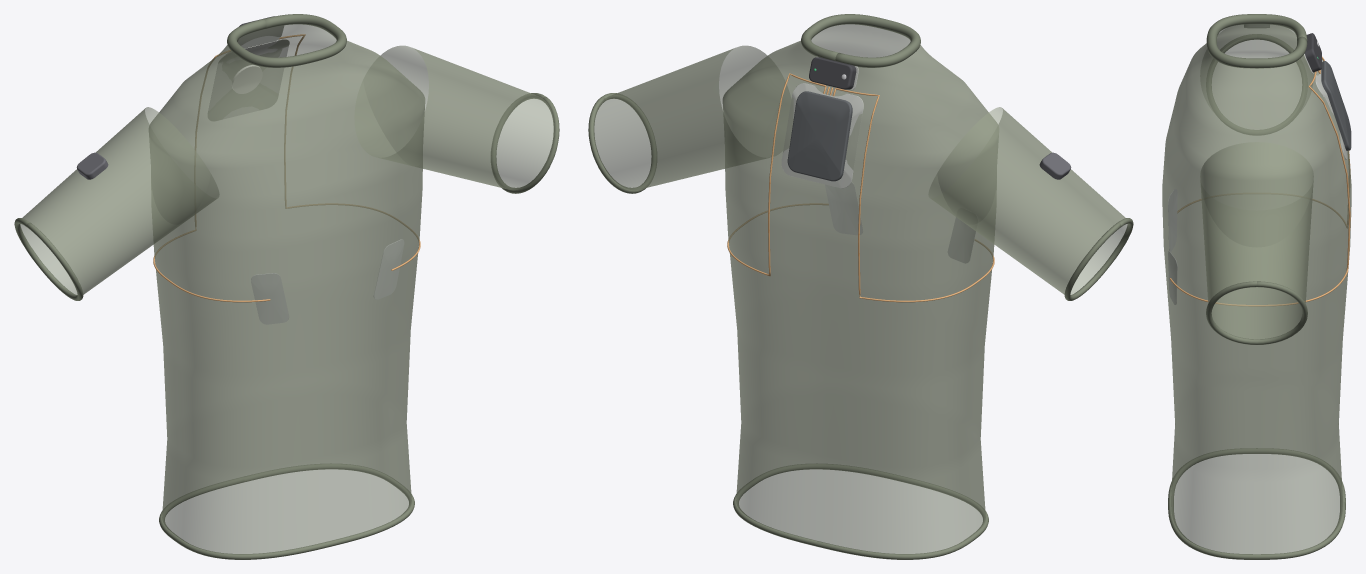
Rendered from RSAF_HeatStrain_Shirt_Assembly.glb.
3 renders of one model, left to right at view 1: azimuth 30°, elevation 25°; view 2: azimuth 150°, elevation 25°; view 3: azimuth 270°, elevation 25°, orthographic.
Visible parts, largest first — view 1: Shirt_body, Sleeve_L, Sleeve_R, Dock_M1_Back_patch, Hem_band, Collar_band, Cuff_R, M3_ECG_electrode_L, Cuff_L, M3_ECG_electrode_R, Conductive_thread_traces_TPU_taped, M1_Back_patch_sensing_boss; view 2: Shirt_body, Sleeve_L, Sleeve_R, M1_Back_patch_housing, Hem_band, Collar_band, Dock_M1_Back_patch, Conductive_thread_traces_TPU_taped, Cuff_R, M3_ECG_electrode_R, Cuff_L, M2_Hub_pod (+1 smaller); view 3: Shirt_body, Sleeve_R, Hem_band, Collar_band, Cuff_R, Sleeve_L, Cuff_L, M1_Back_patch_housing, Conductive_thread_traces_TPU_taped, M3_ECG_electrode_L, M2_Hub_pod, Dock_M1_Back_patch (+1 smaller).
Part boxes in pixels (x1,y1,x2,y2): Shirt_body: [149, 24, 425, 554]; Sleeve_L: [20, 107, 219, 294]; Sleeve_R: [354, 45, 554, 190]; Dock_M1_Back_patch: [208, 39, 289, 120]; Hem_band: [159, 464, 414, 559]; Collar_band: [227, 14, 346, 67]; Cuff_R: [491, 93, 559, 193]; M3_ECG_electrode_L: [251, 273, 289, 324]; Cuff_L: [14, 218, 83, 300]; M3_ECG_electrode_R: [373, 239, 404, 299]; Conductive_thread_traces_TPU_taped: [153, 34, 420, 302]; M1_Back_patch_sensing_boss: [231, 65, 262, 93]; Shirt_body: [722, 24, 998, 554]; Sleeve_L: [928, 107, 1127, 294]; Sleeve_R: [593, 45, 790, 190]; M1_Back_patch_housing: [787, 91, 852, 181]; Hem_band: [733, 464, 988, 559]; Collar_band: [801, 14, 920, 67]; Dock_M1_Back_patch: [781, 83, 863, 188]; Conductive_thread_traces_TPU_taped: [727, 73, 994, 302]; Cuff_R: [588, 93, 656, 193]; M3_ECG_electrode_R: [825, 182, 863, 235]; Cuff_L: [1064, 218, 1133, 300]; M2_Hub_pod: [809, 57, 856, 89]; Shirt_body: [1162, 24, 1351, 554]; Sleeve_R: [1200, 142, 1313, 339]; Hem_band: [1168, 448, 1345, 559]; Collar_band: [1206, 14, 1307, 68]; Cuff_R: [1206, 281, 1307, 344]; Sleeve_L: [1201, 24, 1312, 120]; Cuff_L: [1209, 34, 1304, 134]; M1_Back_patch_housing: [1321, 61, 1351, 150]; Conductive_thread_traces_TPU_taped: [1169, 56, 1350, 306]; M3_ECG_electrode_L: [1168, 189, 1177, 252]; M2_Hub_pod: [1304, 33, 1321, 72]; Dock_M1_Back_patch: [1315, 60, 1347, 159].
Size of the model in its own units: 0.8108 by 0.7108 by 0.26.
